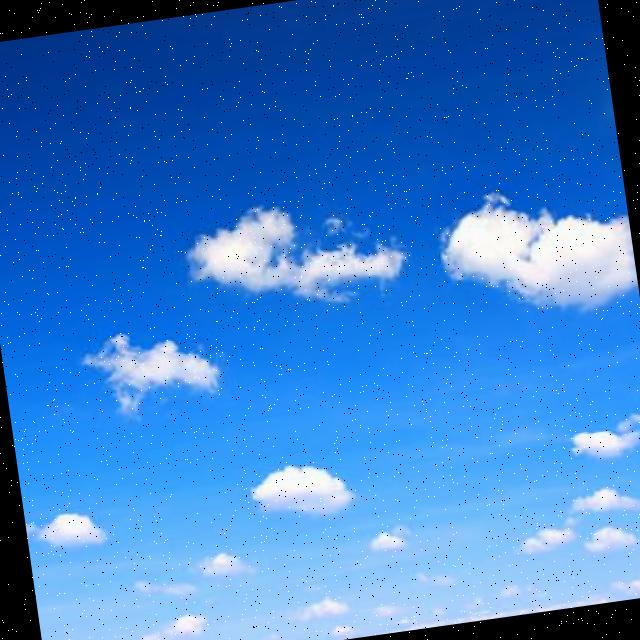Cu: (1, 118, 640, 559)
